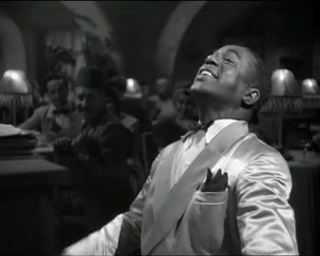face: (188, 45, 246, 93)
mcu: (1, 1, 320, 256)
person: (58, 44, 301, 256)
